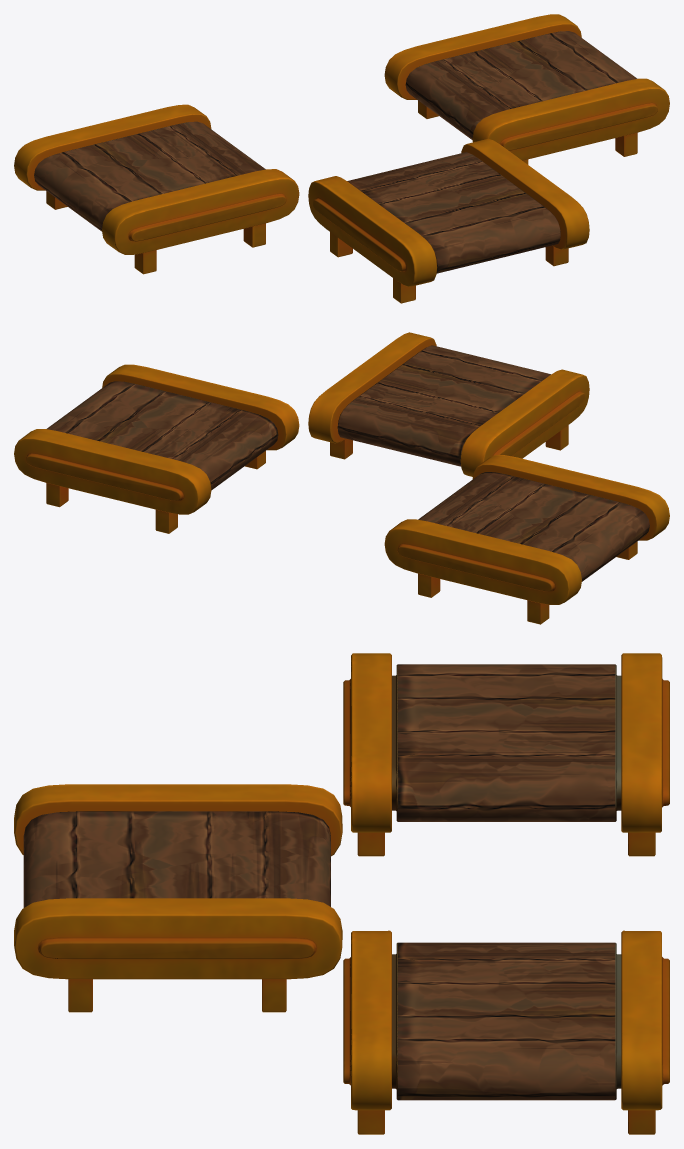
The model's file is BaseBelt.fbx.
3 renders of one model, top to bottom at view 1: azimuth 30°, elevation 25°; view 2: azimuth 150°, elevation 25°; view 3: azimuth 270°, elevation 25°, orthographic. The views are drawn at different scales.
Parts seen in each view (by area): view 1: belt; view 2: belt; view 3: belt.
Boxes of the visible parts, box(x1,y1,x2,y2) form: belt: box(14, 14, 669, 303); belt: box(14, 332, 669, 624); belt: box(14, 653, 669, 1134).
Bounding box in the file's own units: 299 × 33.78 × 199.
